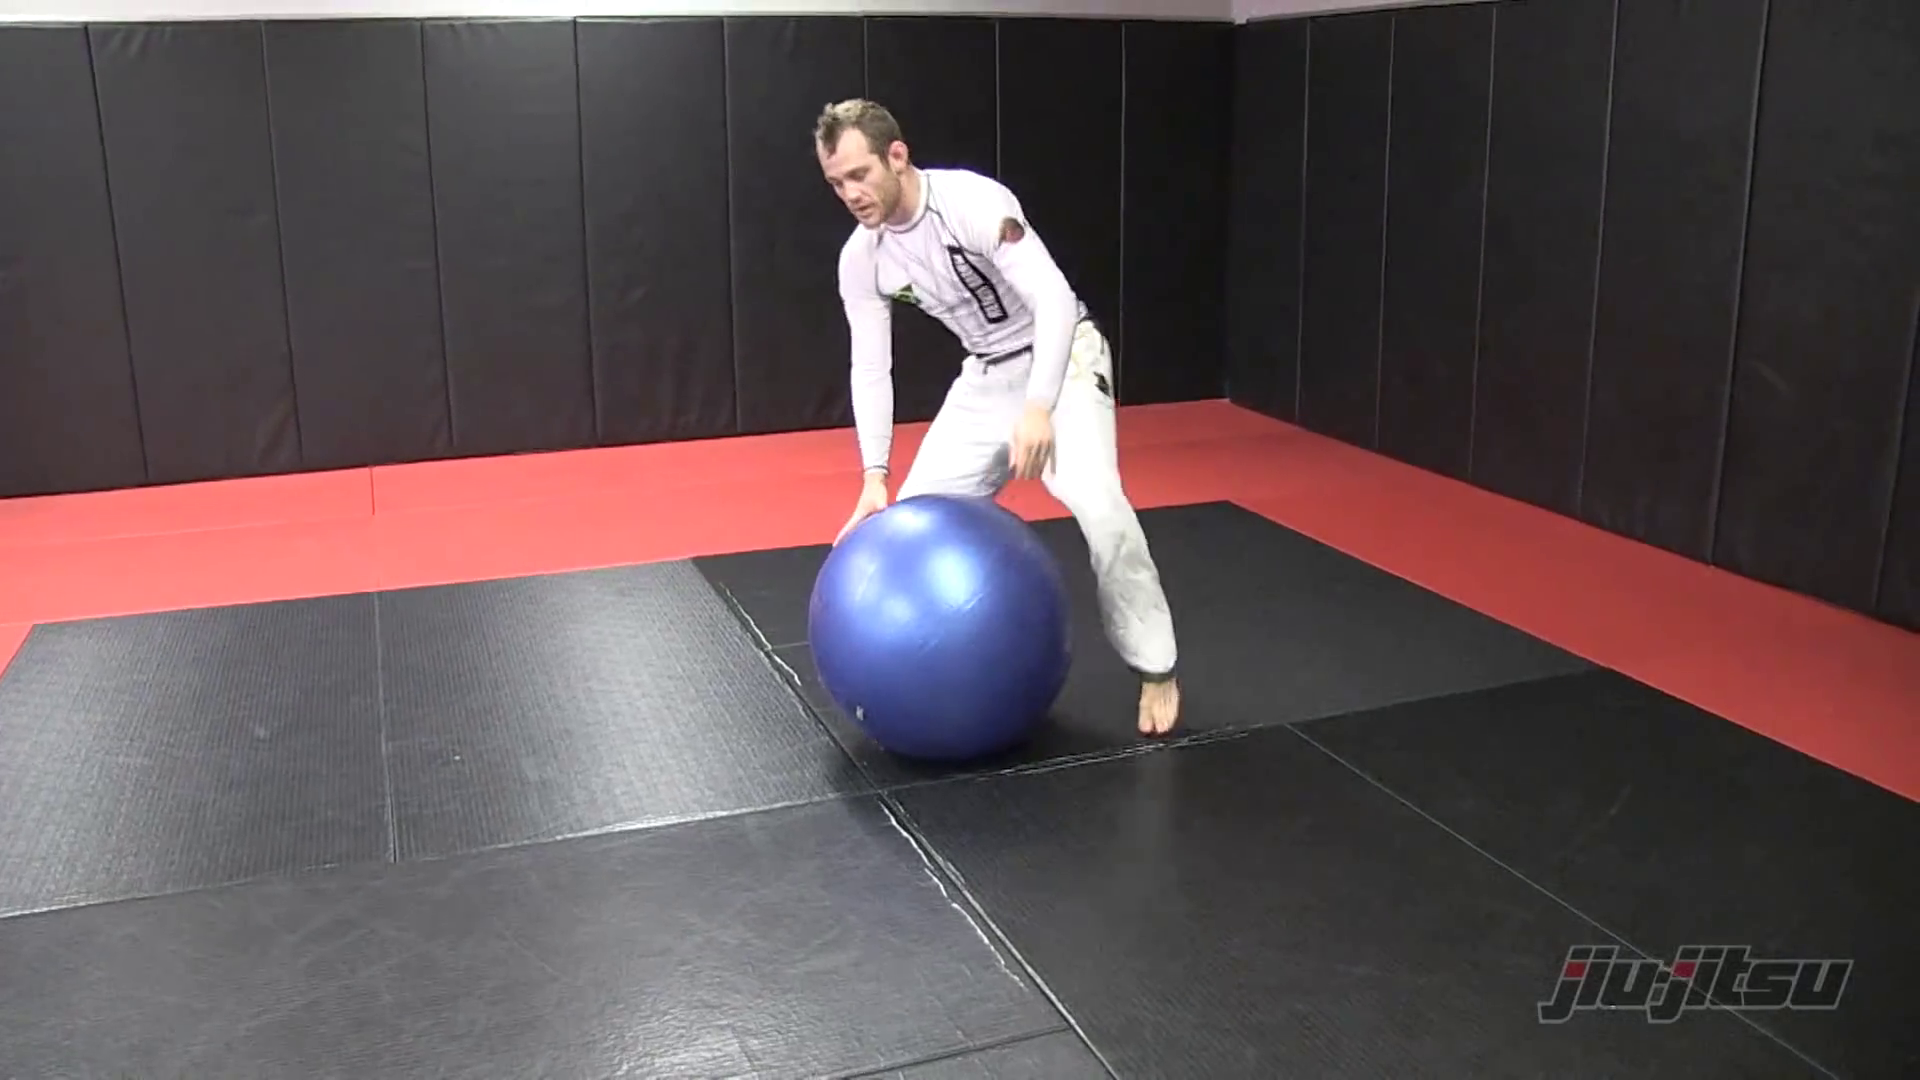yogaball: (775, 487, 1095, 781)
